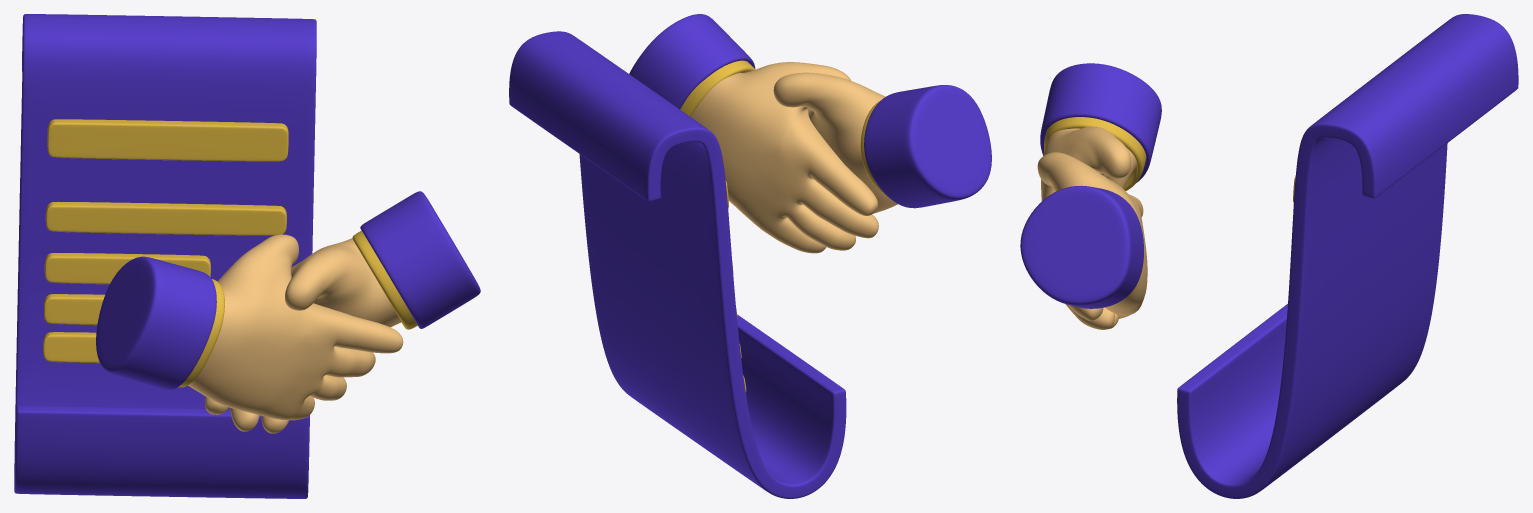
The model's file is agreement-3d-icon-180120860293.glb.
3 renders of one model, left to right at view 1: azimuth 30°, elevation 25°; view 2: azimuth 150°, elevation 25°; view 3: azimuth 270°, elevation 25°, orthographic. The views are drawn at different scales.
Parts seen in each view (by area): view 1: Paper, Hand, Text, Sleeve, Shirt; view 2: Paper, Hand, Sleeve, Shirt; view 3: Paper, Sleeve, Hand, Shirt.
Boxes of the visible parts, left/top/right/bottom form: Paper: left=14, top=14, right=316, bottom=498; Hand: left=188, top=234, right=403, bottom=433; Text: left=43, top=119, right=288, bottom=363; Sleeve: left=96, top=191, right=480, bottom=389; Shirt: left=178, top=230, right=417, bottom=387; Paper: left=509, top=31, right=846, bottom=498; Hand: left=691, top=62, right=897, bottom=253; Sleeve: left=629, top=14, right=991, bottom=208; Shirt: left=680, top=60, right=891, bottom=200; Paper: left=1177, top=14, right=1518, bottom=498; Sleeve: left=1020, top=63, right=1161, bottom=308; Hand: left=1037, top=126, right=1147, bottom=329; Shirt: left=1044, top=117, right=1146, bottom=190.
Size of the model in its own units: 1.83 by 2.01 by 2.21.
